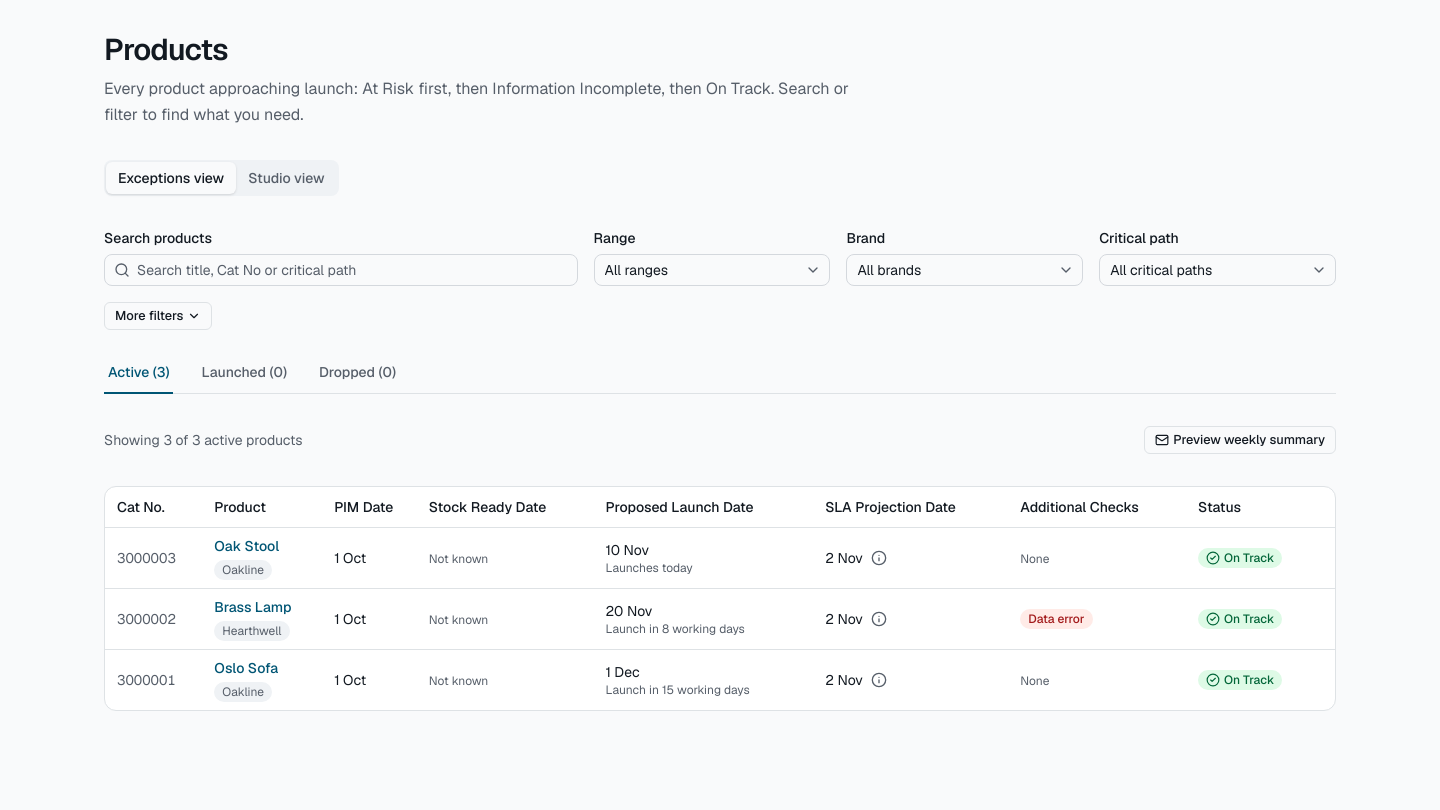
Test: Studio filters › shows chips for active filters and clears them all
Click the button "Studio view": (286,178) [236,162,337,194]
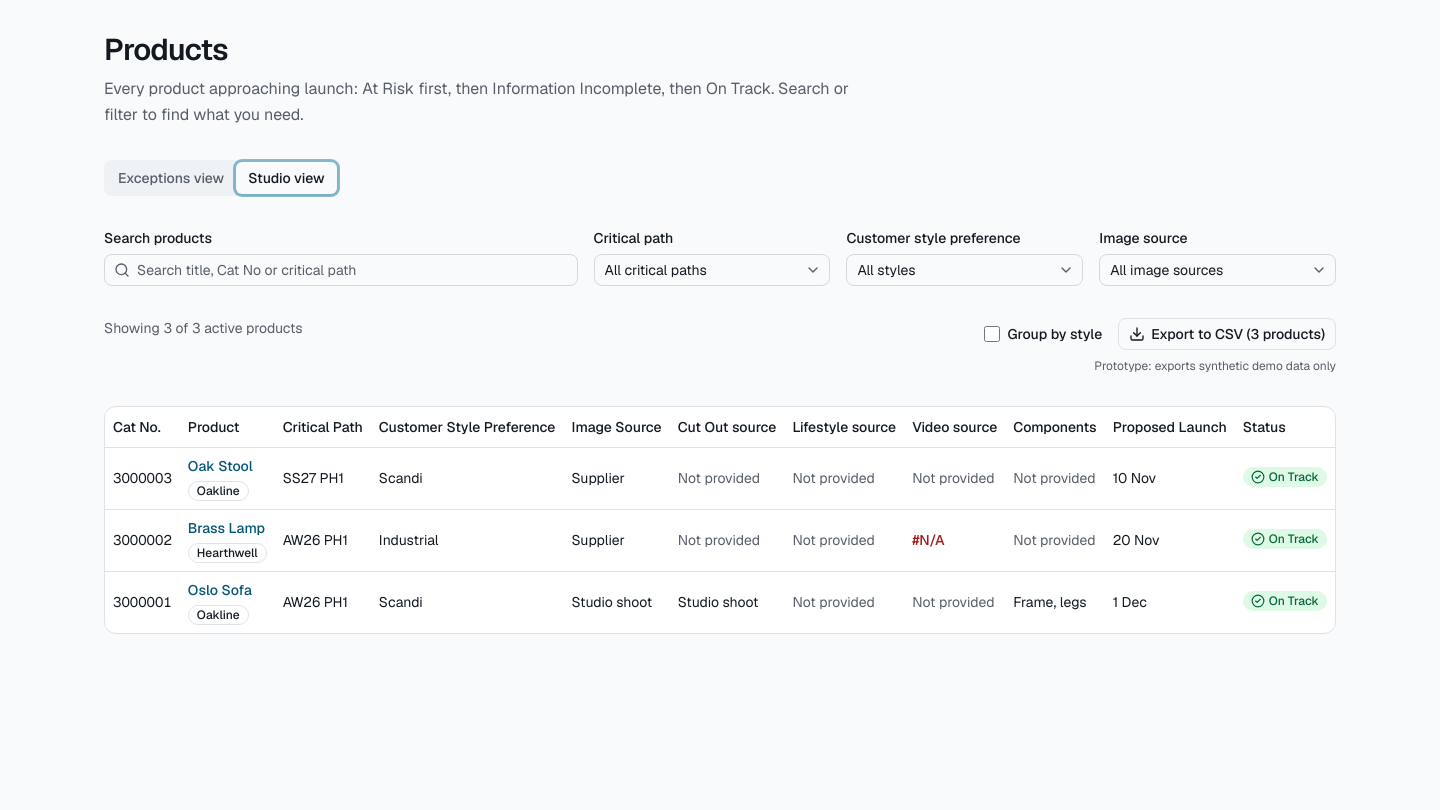
Click the dropdown named "Customer style preference": (965,270) [846,254,1083,286]
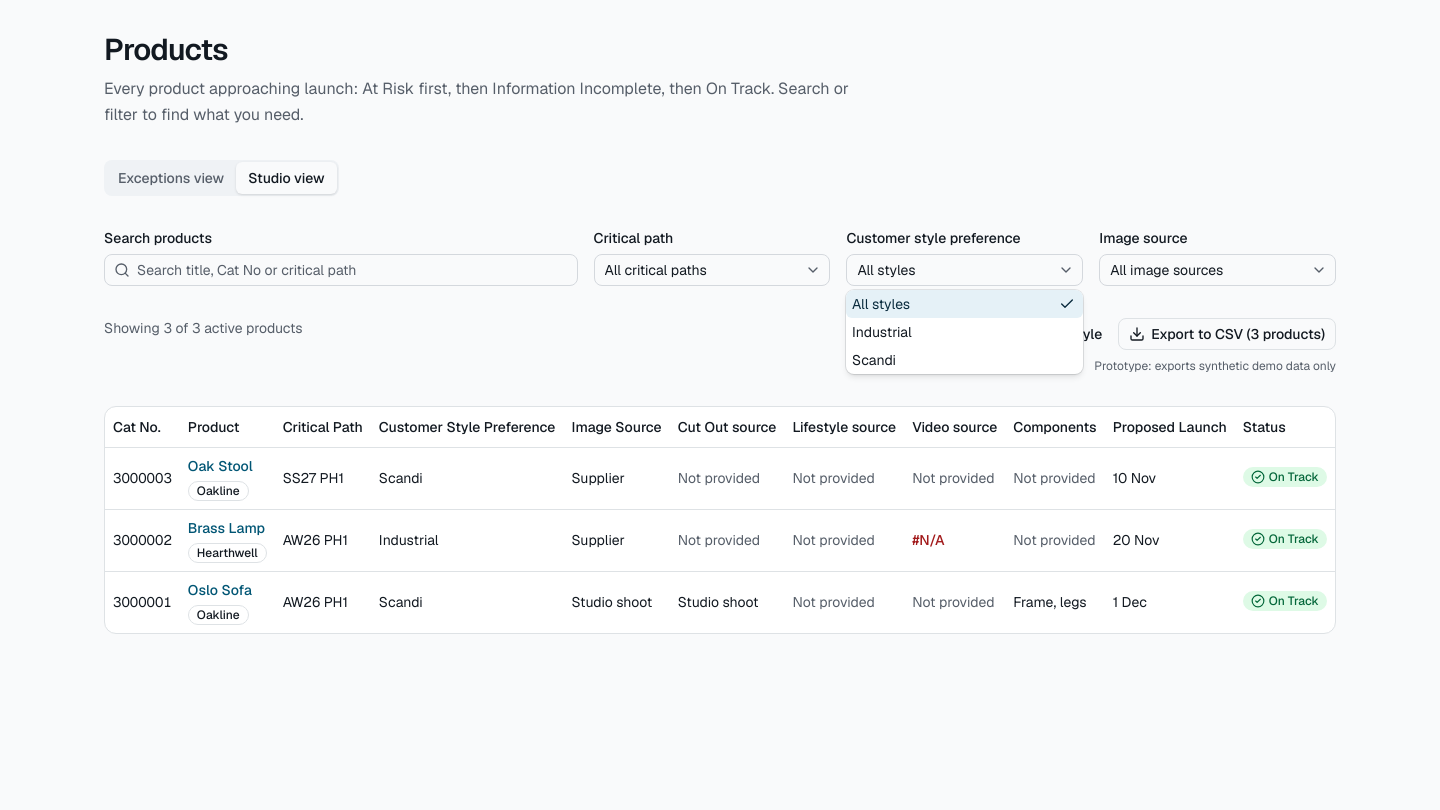
Click the option "Scandi": (874,360) [852,351,896,369]
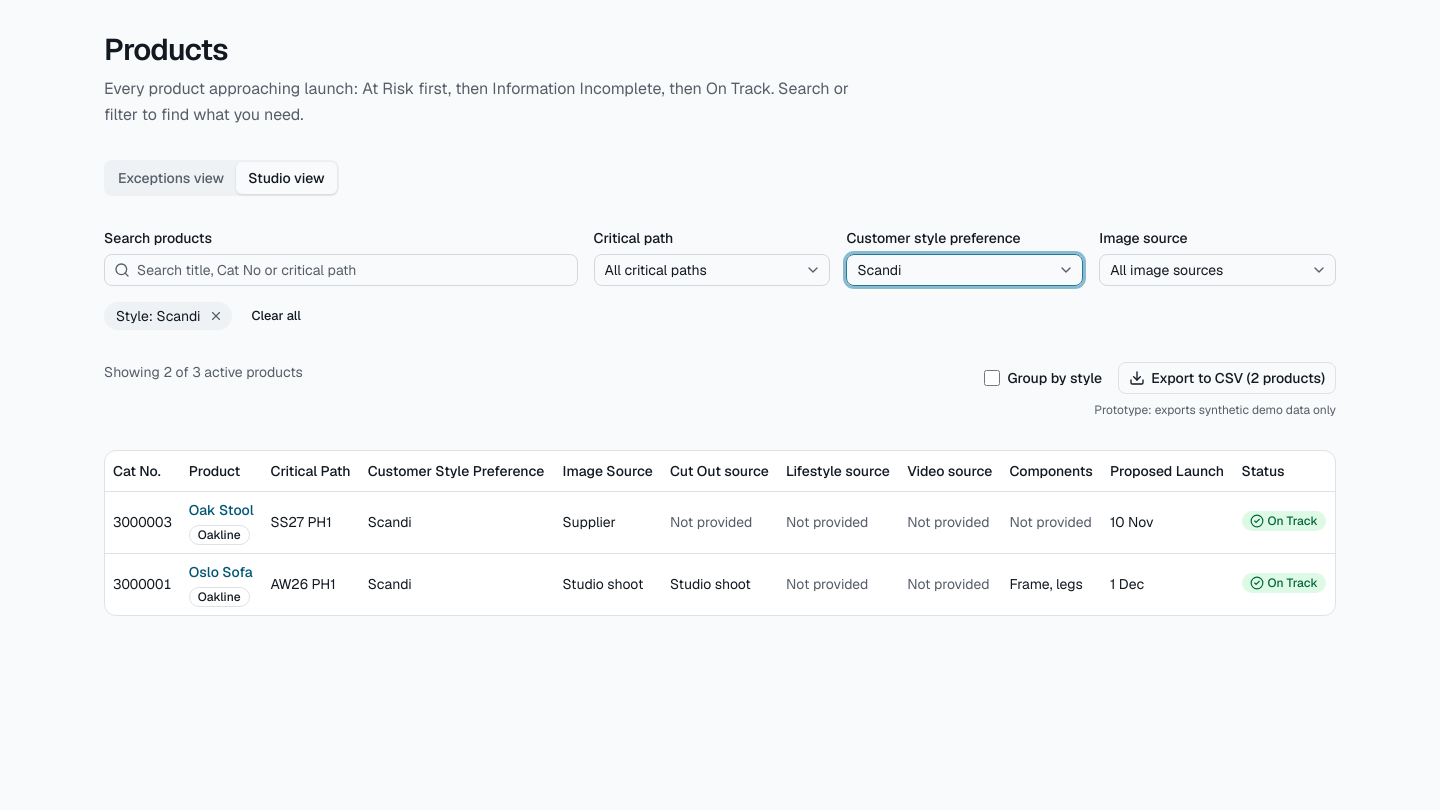
Click the dropdown labelled "image source": (1218,270) [1099,254,1336,286]
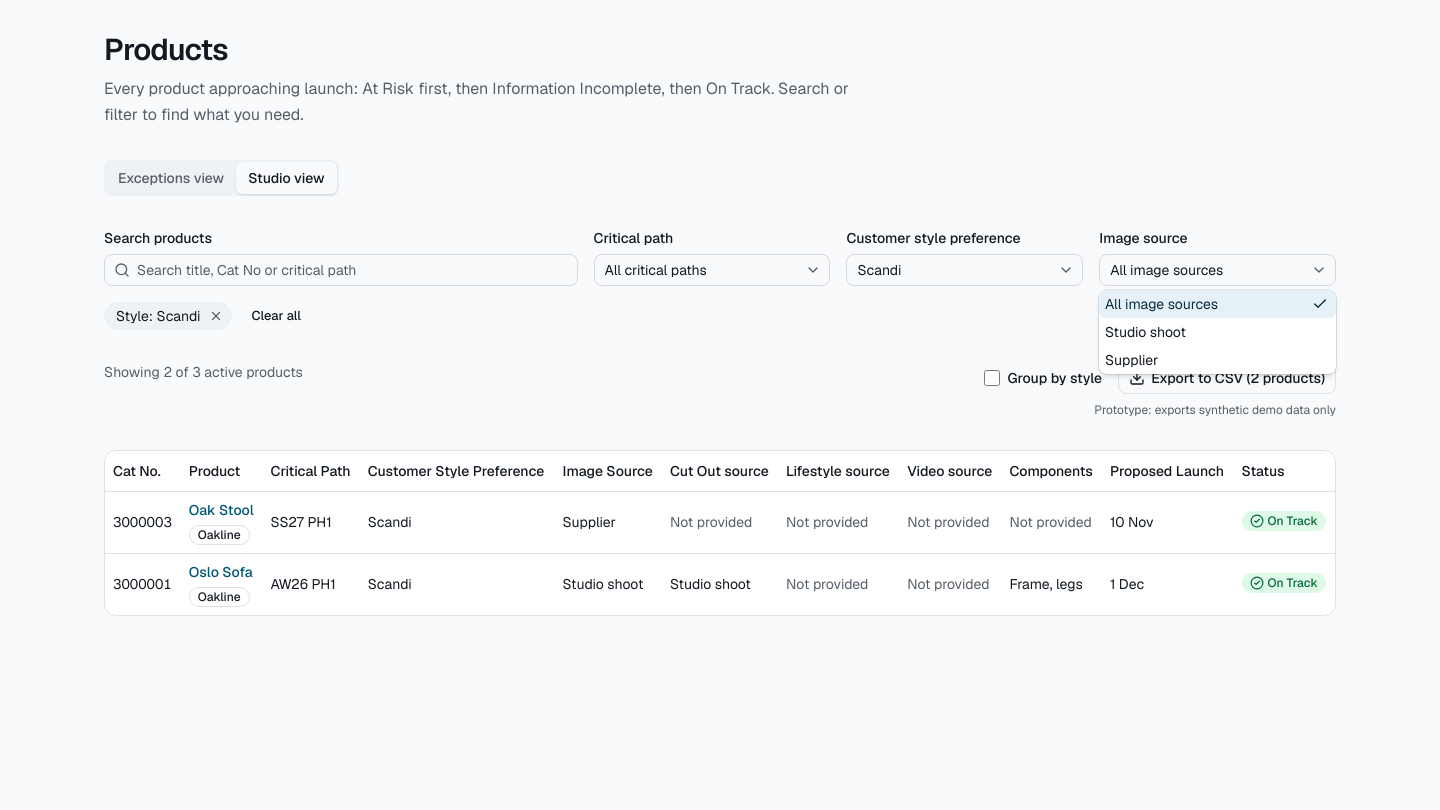
Click the option "Supplier": (1132,360) [1105,351,1158,369]
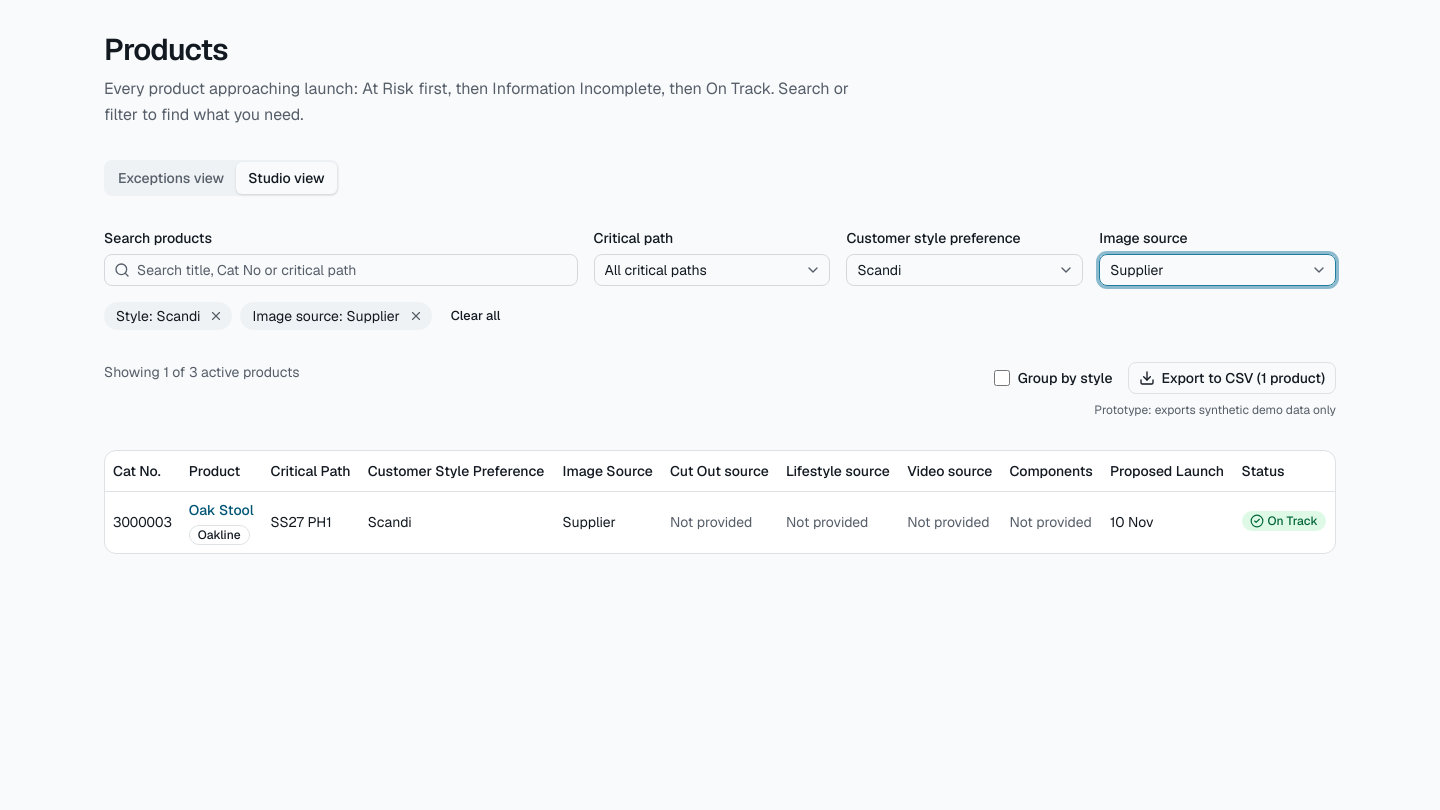
Check: the list items read "Style: Scandi", "Image source: Supplier", in this order, box [104,302,232,330]; [240,302,432,330]
Click the button "Clear all": (476,316) [440,302,511,330]
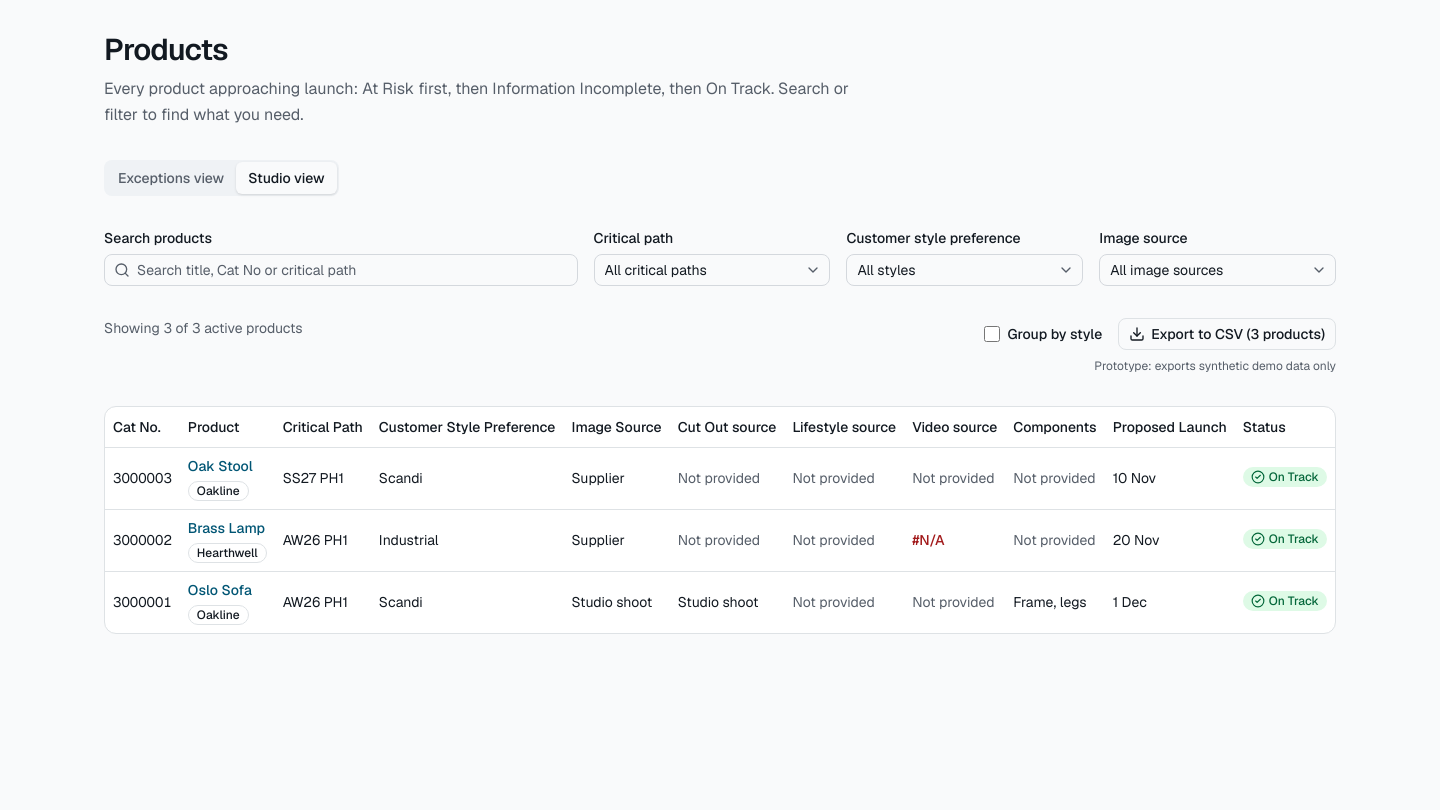
Check: the number of links is 3, box [188,456,253,474]; [188,518,265,536]; [188,580,252,598]
